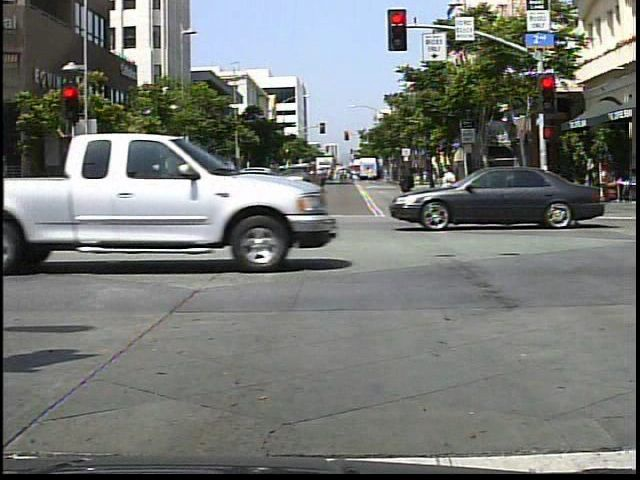person: (438, 159, 469, 223), (159, 166, 191, 225), (393, 162, 419, 199)
